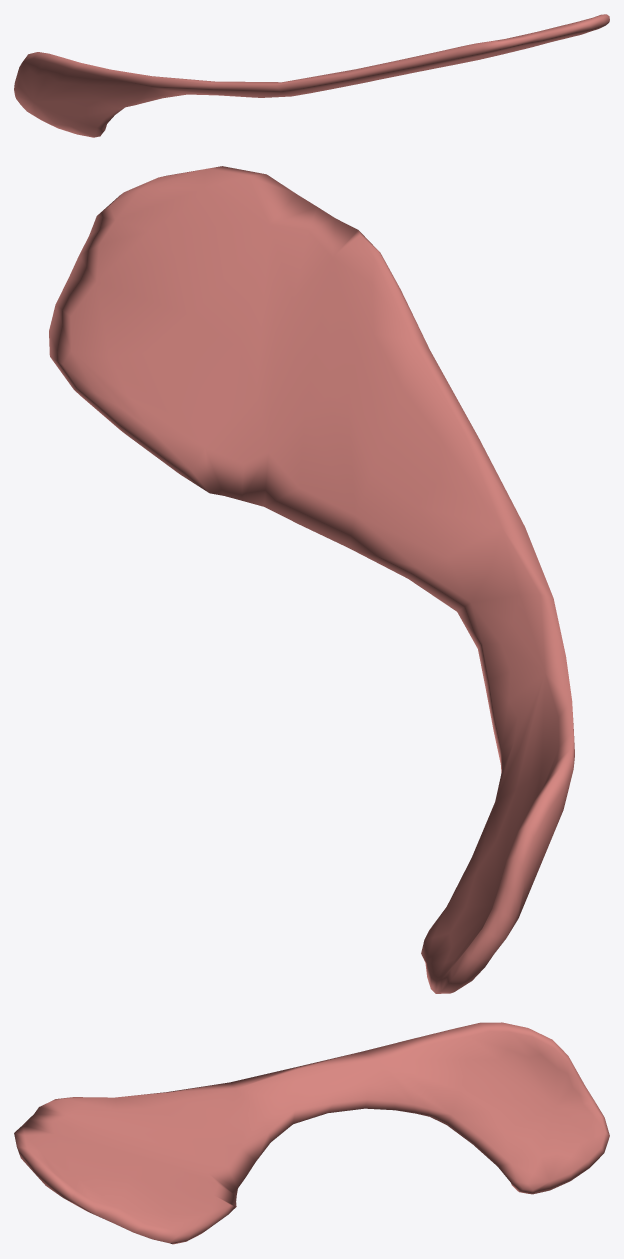
3 views of the same model, one above another, from view 1: azimuth 30°, elevation 25°; view 2: azimuth 150°, elevation 25°; view 3: azimuth 270°, elevation 25° (orthographic). The views are drawn at different scales.
Parts seen in each view (by area): view 1: ZA_96949297f63f4428; view 2: ZA_96949297f63f4428; view 3: ZA_96949297f63f4428.
Boxes of the visible parts, box(x1,y1,x2,y2) form: ZA_96949297f63f4428: box(14, 14, 609, 137); ZA_96949297f63f4428: box(49, 166, 574, 993); ZA_96949297f63f4428: box(14, 1022, 609, 1244).
Size of the model in its own units: 0.0168 by 0.00733 by 0.0164.
